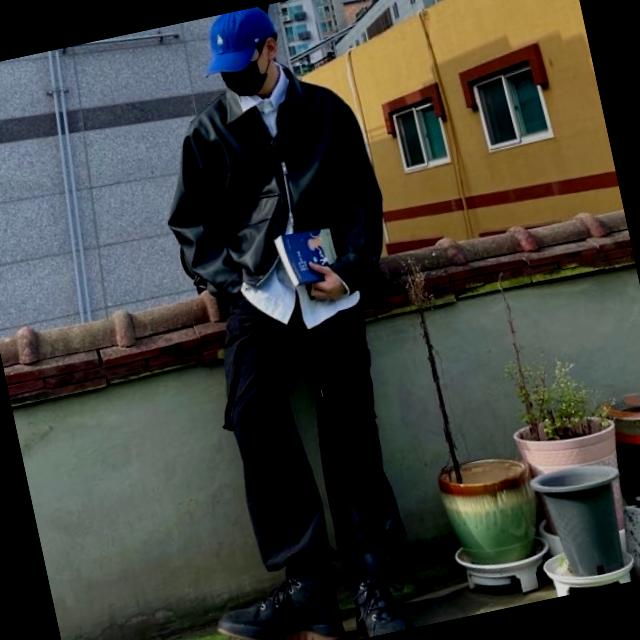cottonpants: (192, 257, 418, 591)
jacket: (138, 54, 398, 330)
